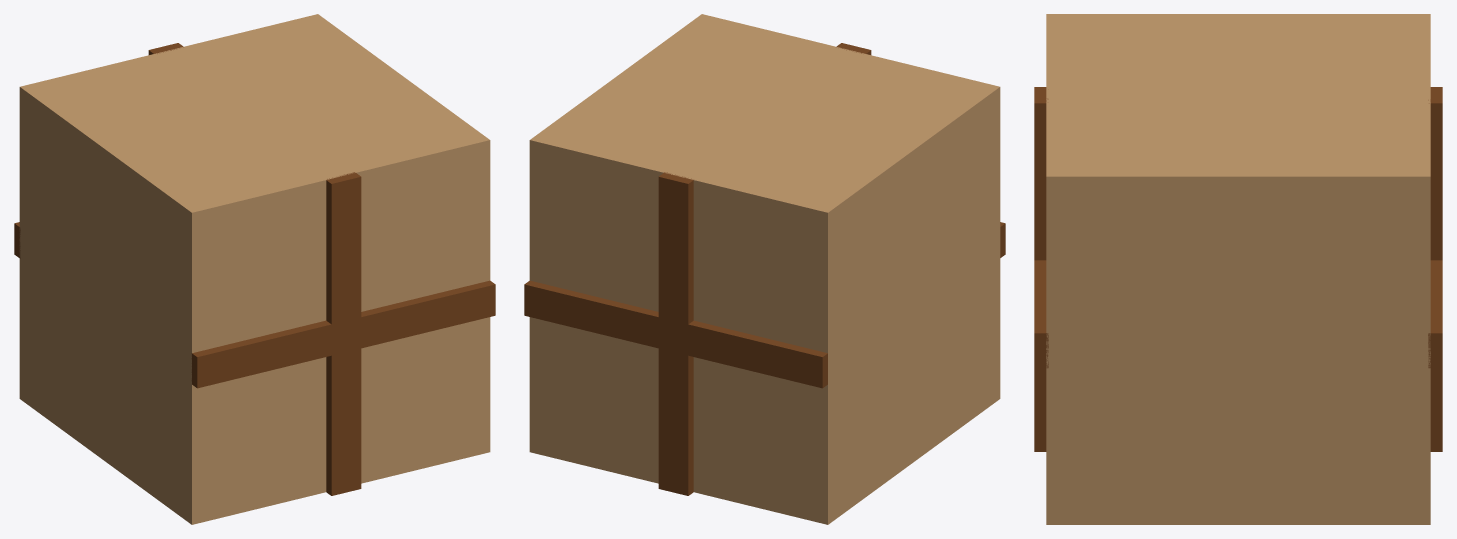
The model's file is Prop_Crate.fbx.
The picture shows the model from 3 angles, left to right: view 1: azimuth 30°, elevation 25°; view 2: azimuth 150°, elevation 25°; view 3: azimuth 270°, elevation 25°; orthographic projection. The views are drawn at different scales.
Parts seen in each view (by area): view 1: Prop_Crate; view 2: Prop_Crate; view 3: Prop_Crate.
Part boxes in pixels (bbox=[...]): Prop_Crate: bbox=[14, 14, 495, 524]; Prop_Crate: bbox=[524, 14, 1005, 524]; Prop_Crate: bbox=[1034, 14, 1442, 524].
Bounding box in the file's own units: 0.8 × 0.8 × 0.85.
